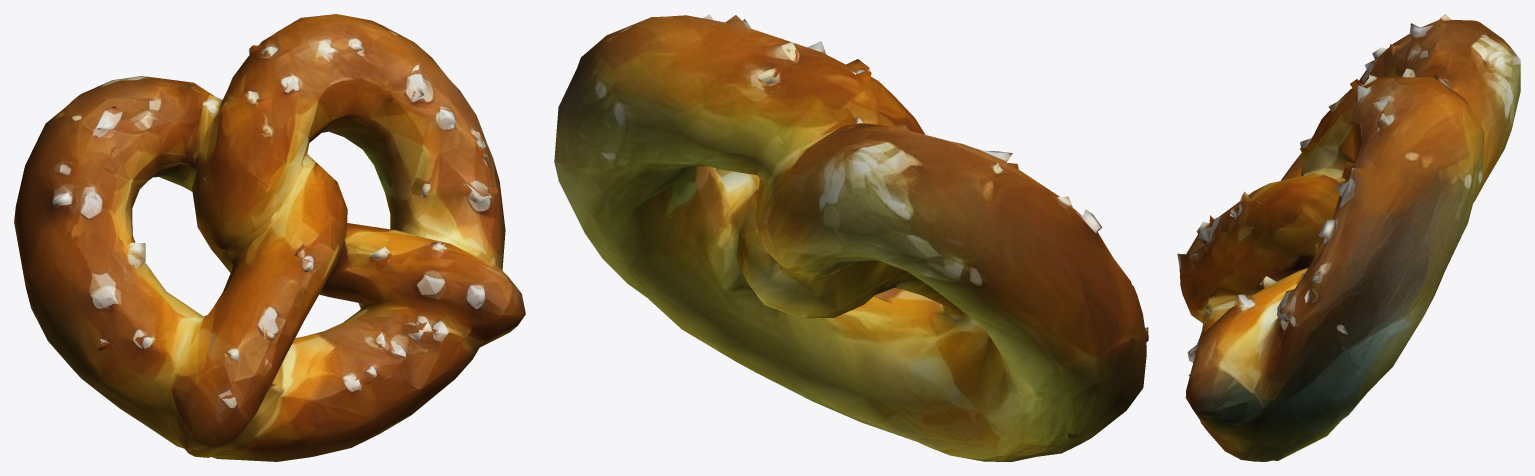
File: item-pretzel-58ef2ee3.glb
3 views of the same model, side by side, from view 1: azimuth 30°, elevation 25°; view 2: azimuth 150°, elevation 25°; view 3: azimuth 270°, elevation 25° (orthographic). The views are drawn at different scales.
Parts seen in each view (by area): view 1: mvadapter_node_mvadapter; view 2: mvadapter_node_mvadapter; view 3: mvadapter_node_mvadapter.
Boxes of the visible parts, x1,y1,x2,y2 form: mvadapter_node_mvadapter: (14, 14, 525, 461); mvadapter_node_mvadapter: (554, 14, 1148, 461); mvadapter_node_mvadapter: (1177, 14, 1520, 461).
Size of the model in its own units: 1.89 by 1.42 by 1.14.
1 material, 1 textured.
